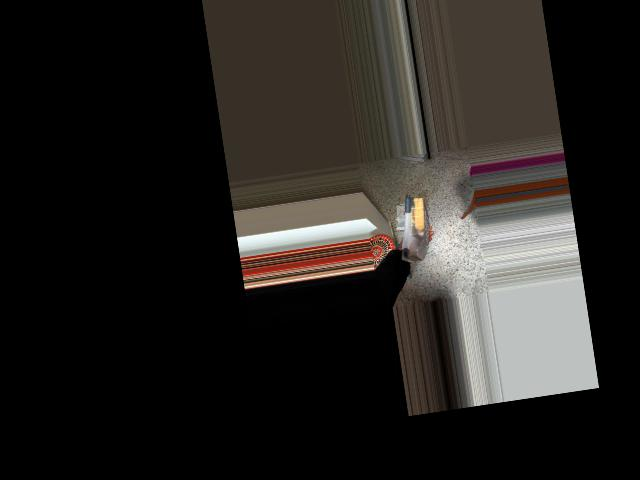cheese: (390, 193, 435, 267)
